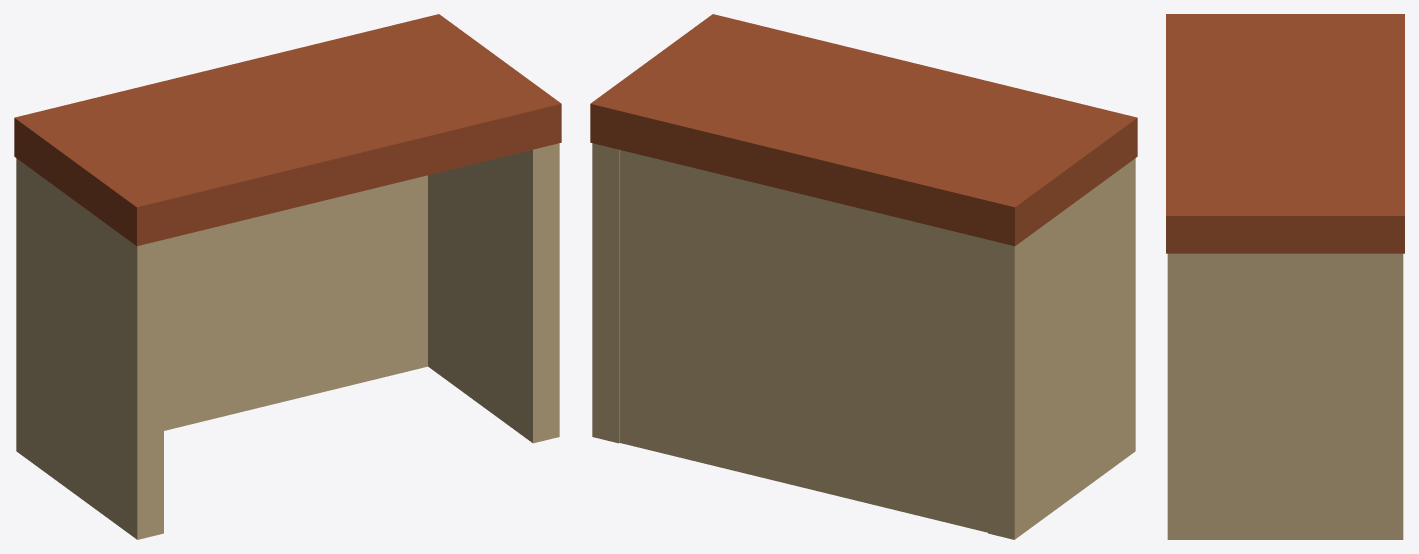
File: desk3_wood.glb
3 views of the same model, side by side, from view 1: azimuth 30°, elevation 25°; view 2: azimuth 150°, elevation 25°; view 3: azimuth 270°, elevation 25° (orthographic). The views are drawn at different scales.
Visible parts, largest first — view 1: Box002; view 2: Box002; view 3: Box002.
Boxes of the visible parts, bbox=[...] form: Box002: bbox=[14, 14, 561, 539]; Box002: bbox=[590, 14, 1137, 539]; Box002: bbox=[1166, 14, 1404, 539].
Size of the model in its own units: 0.16 by 0.12 by 0.08.
Materials: 1 (1 with a texture image).
